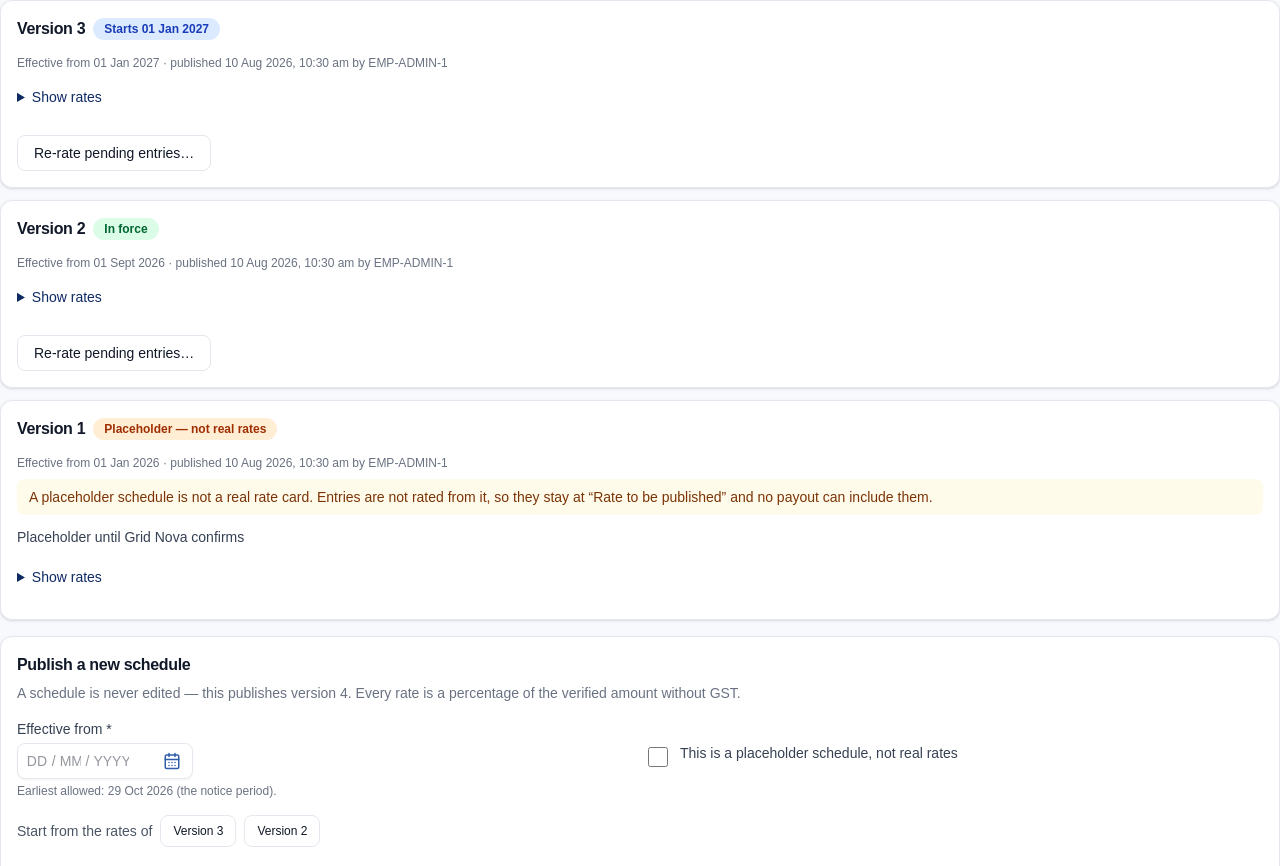
Rate schedules (E8) › re-rate needs a reason and reports what was rated
The image size is (1280, 866).
Click the button "Re-rate pending entries…" below "Starts": (114, 153) [17,135,211,171]
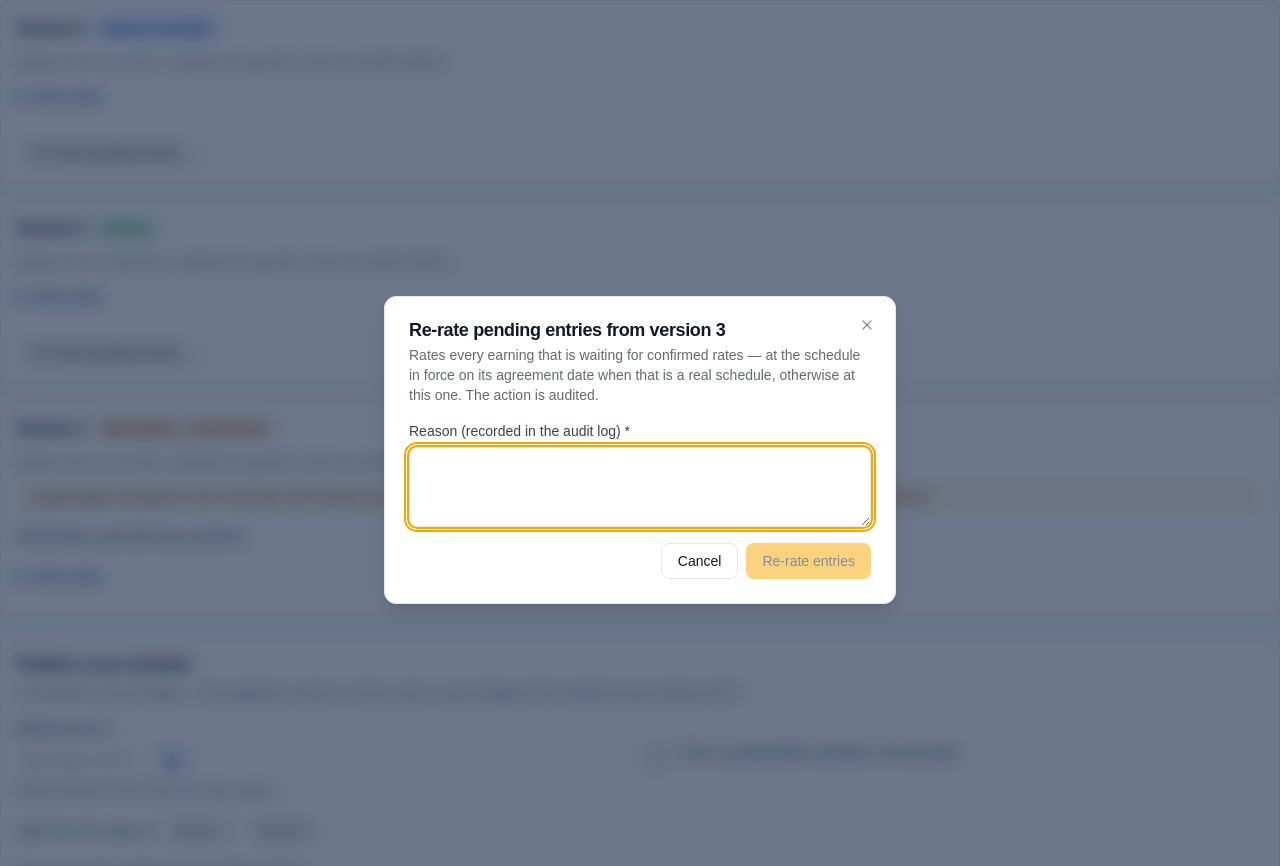
expect the button "Re-rate entries" is disabled: met, box [746,543,871,579]
In the text box labelled "Reason (recorded in the audit log) *": (640, 487) [409,447,871,527], type "Rates confirmed"
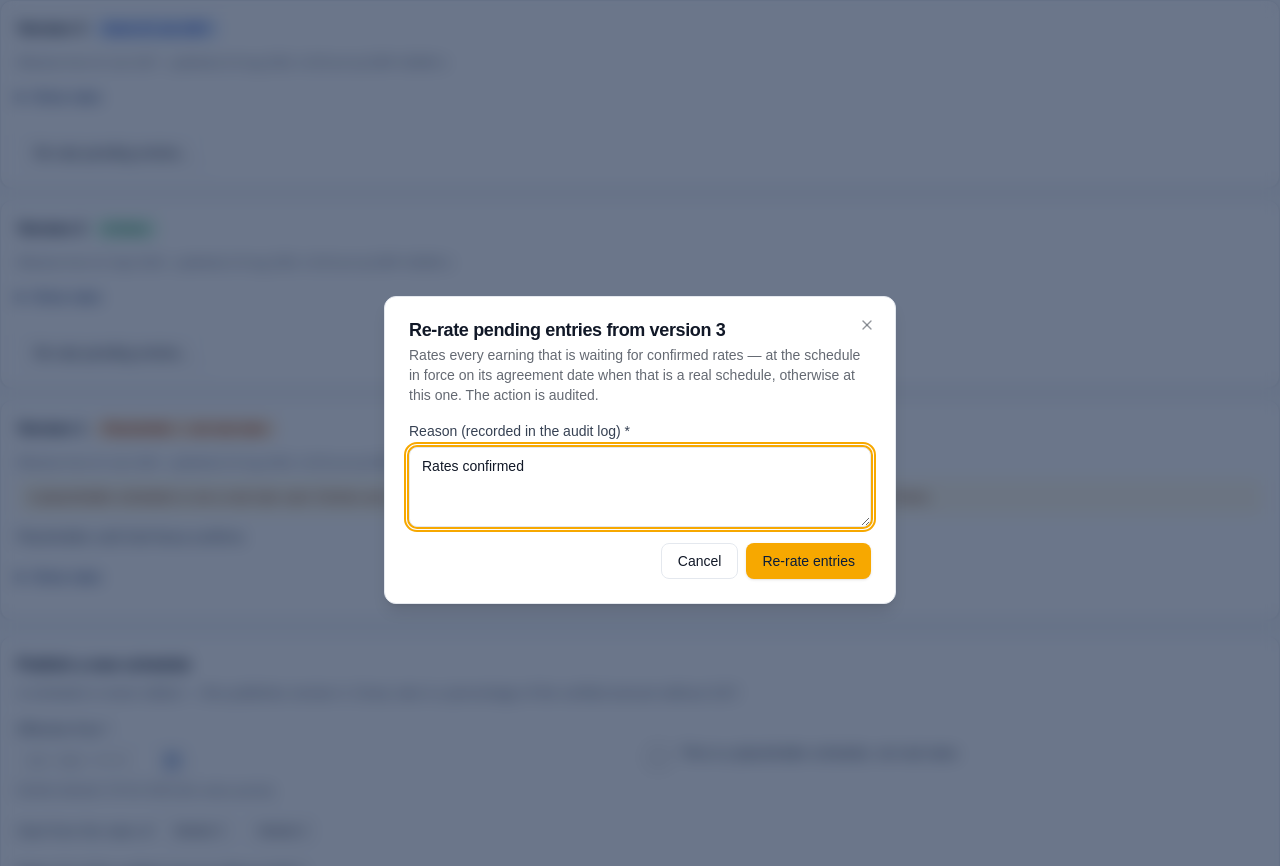
Click the button "Re-rate entries": (809, 561) [746,543,871,579]
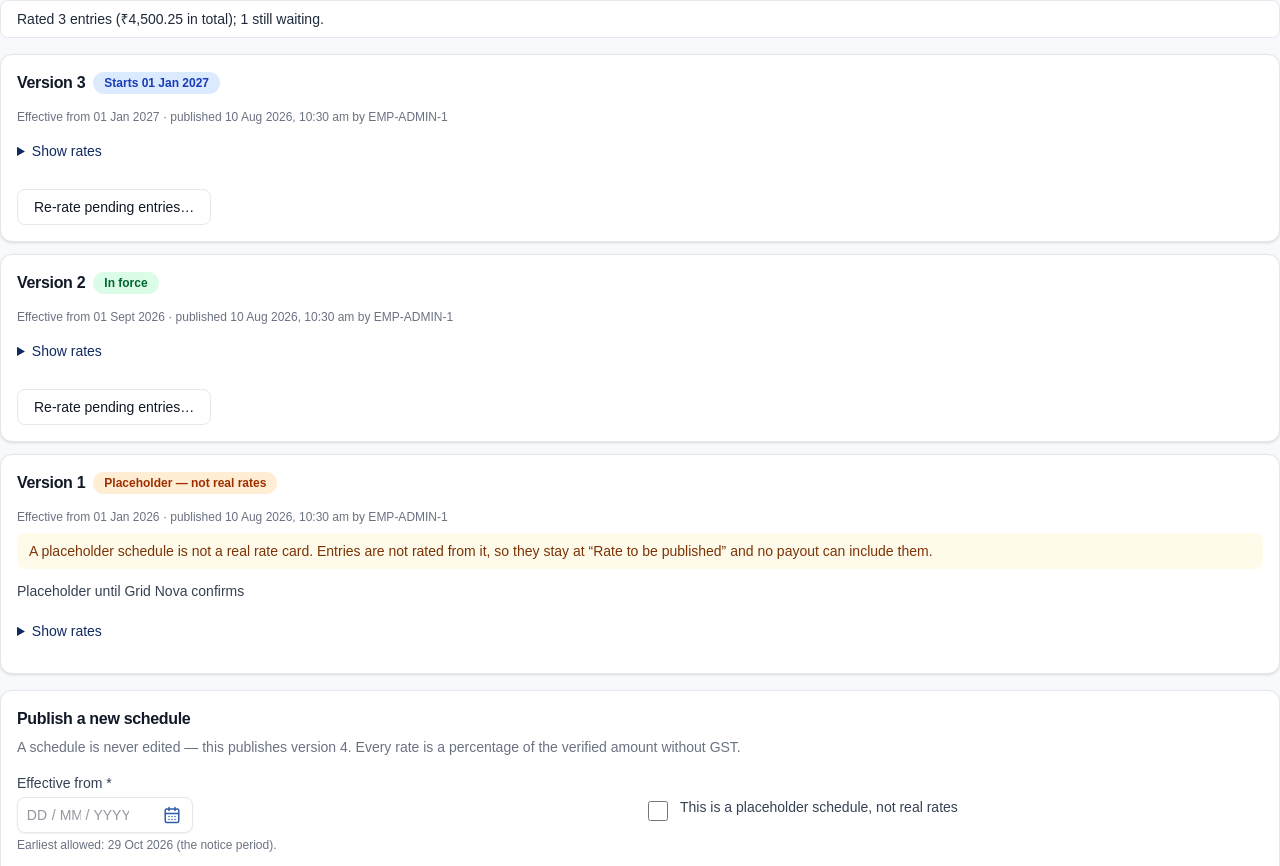
expect the message with test id "rerate-result" reads "Rated 3 entries (₹4,500.25 in total); 1 still waiting.": met, box [17,11,324,27]
